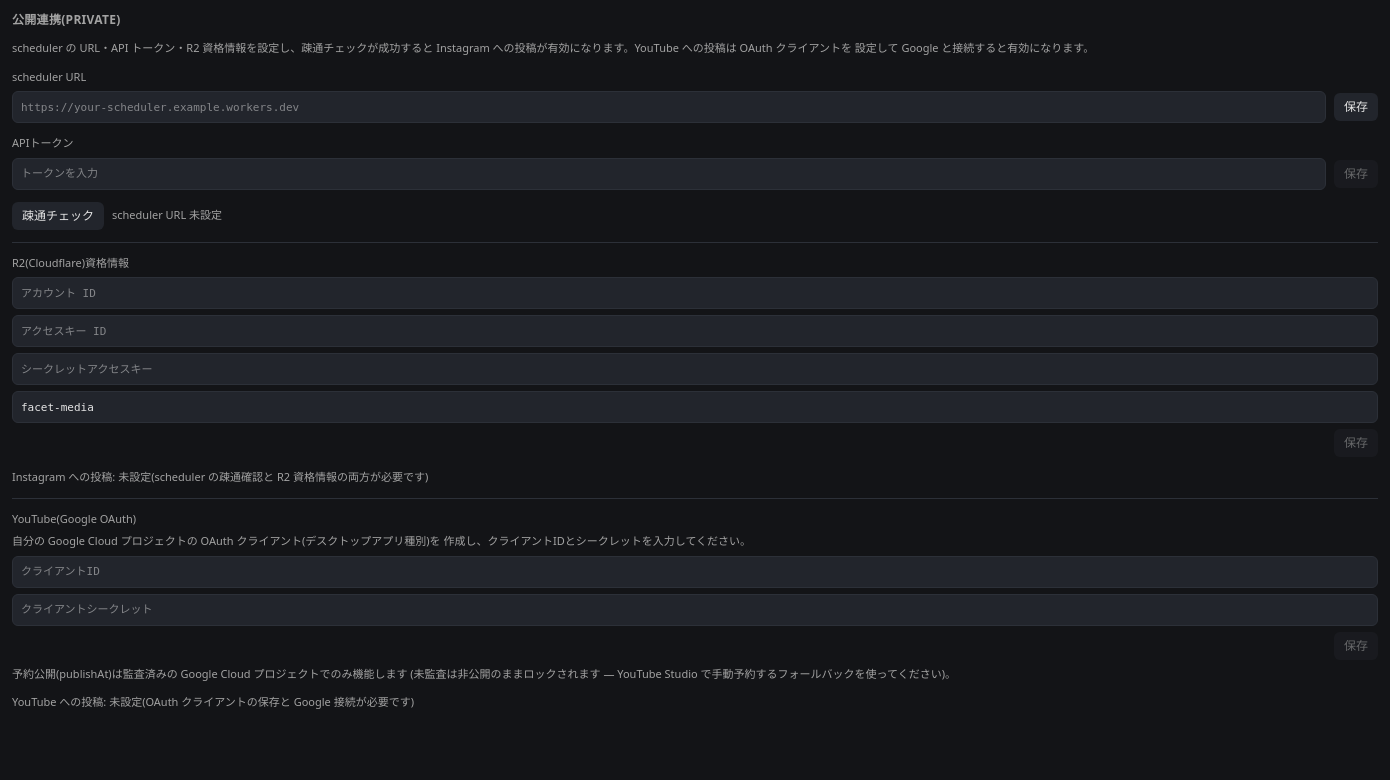
Test case: PublishSettingsSection: APIトークン › 保存すると set_scheduler_api_token が呼ばれ、値を再表示せず「保存済み」表示になる
In the password field named "APIトークン": (669, 174) top-left (12, 158), bottom-right (1326, 190), type "sekret-token"
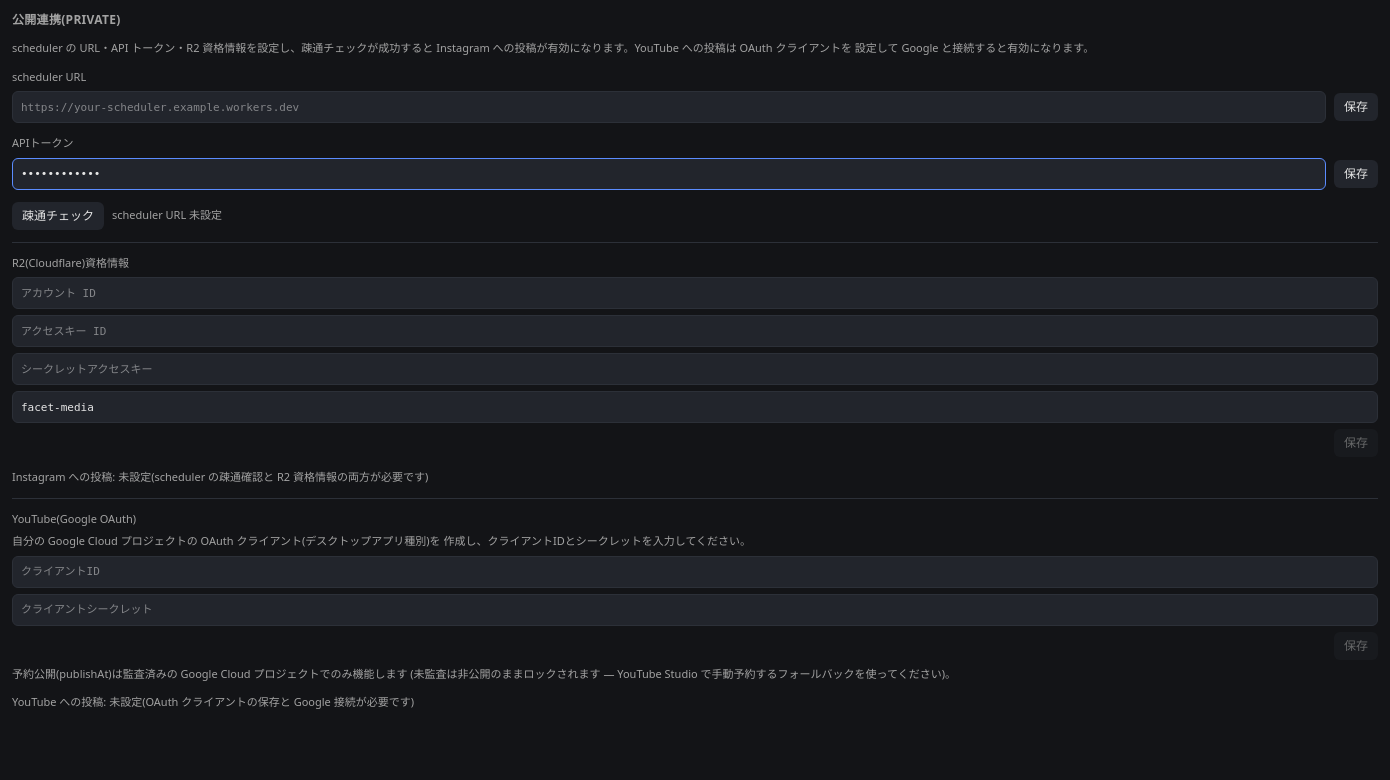
Click the button with aria-label "APIトークンを保存": (1356, 174) top-left (1334, 160), bottom-right (1378, 188)
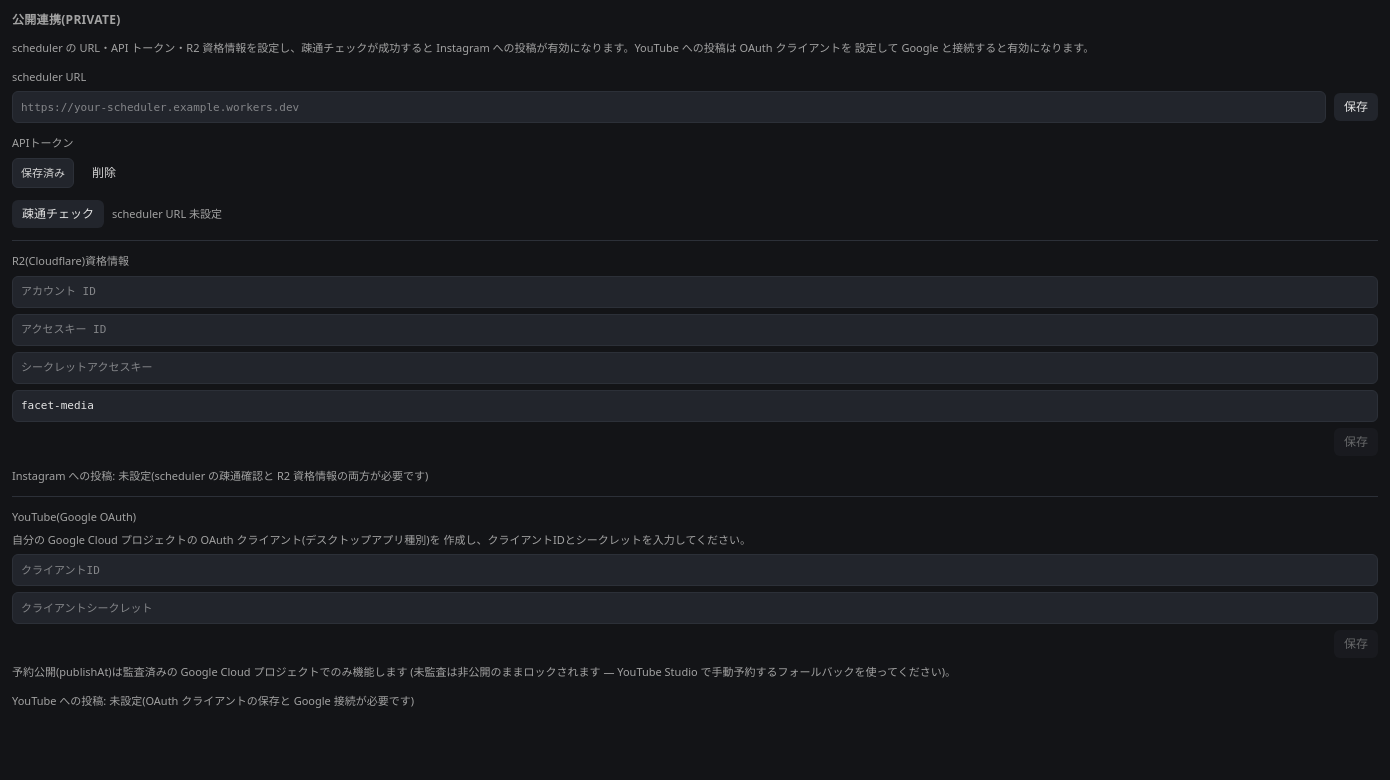
Check: the text "保存済み" is shown, box top-left (12, 158), bottom-right (74, 188)
